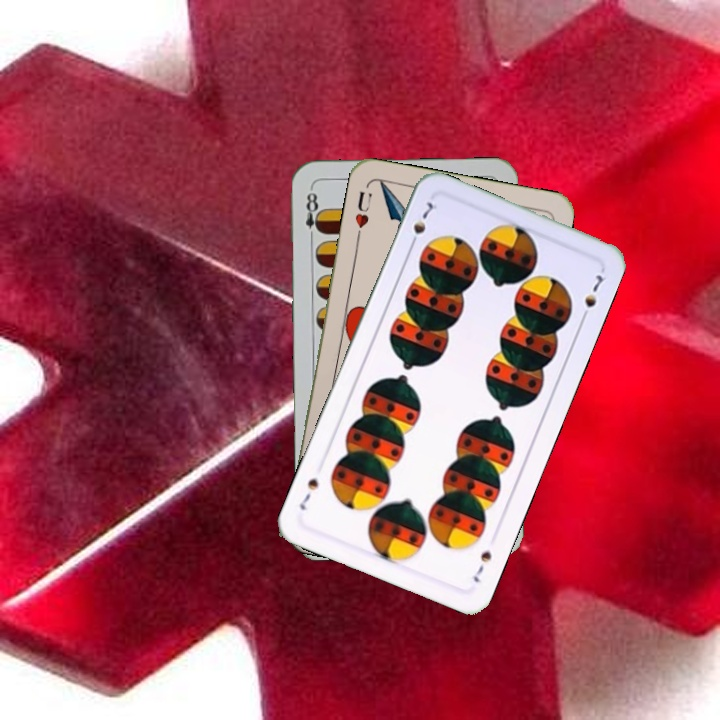E8: (301, 185, 325, 244)
HU: (351, 187, 374, 241)
S7: (405, 197, 440, 251), (469, 547, 494, 585)
